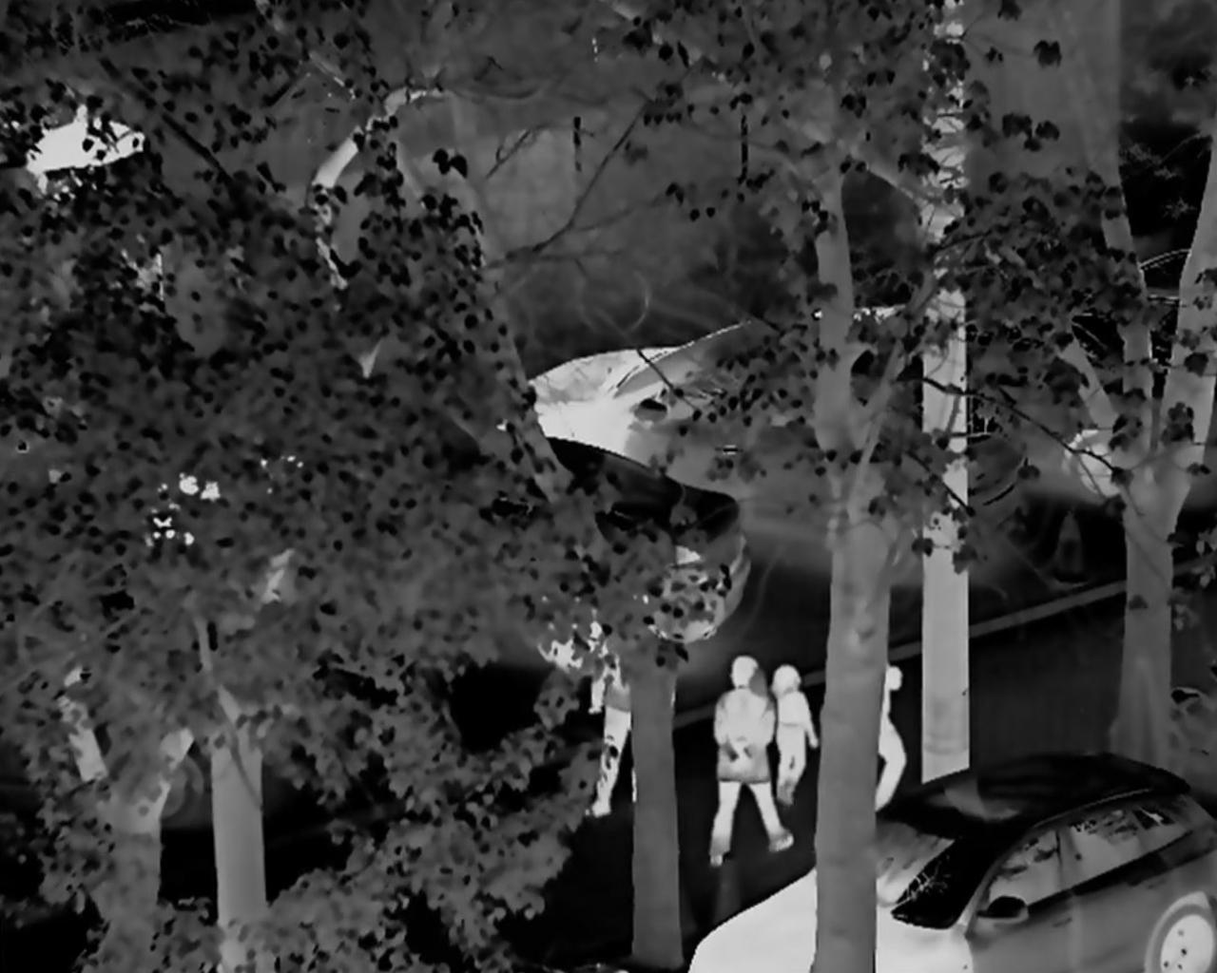person: (707, 644, 783, 867), (577, 618, 655, 815), (861, 644, 909, 818), (771, 656, 817, 810)
